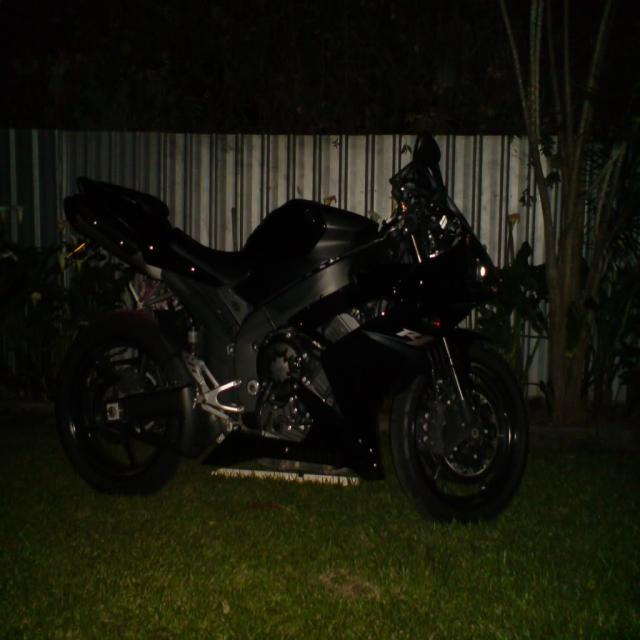Motorbike: (51, 165, 575, 547), (268, 232, 527, 482)
